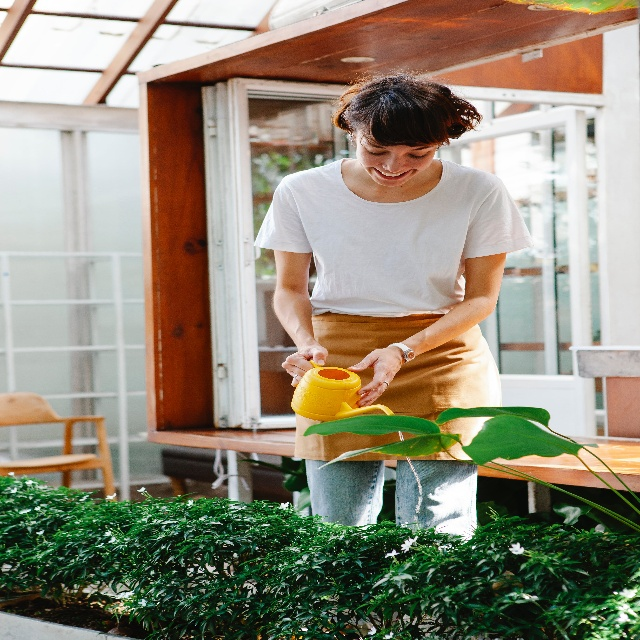Sin_guantes: (347, 346, 403, 407), (281, 343, 328, 388)
